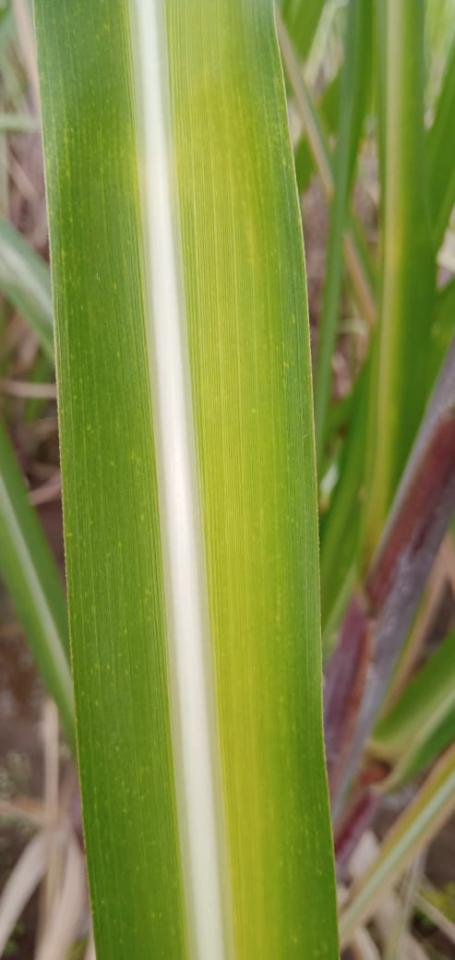Yellow: (111, 0, 305, 959)
